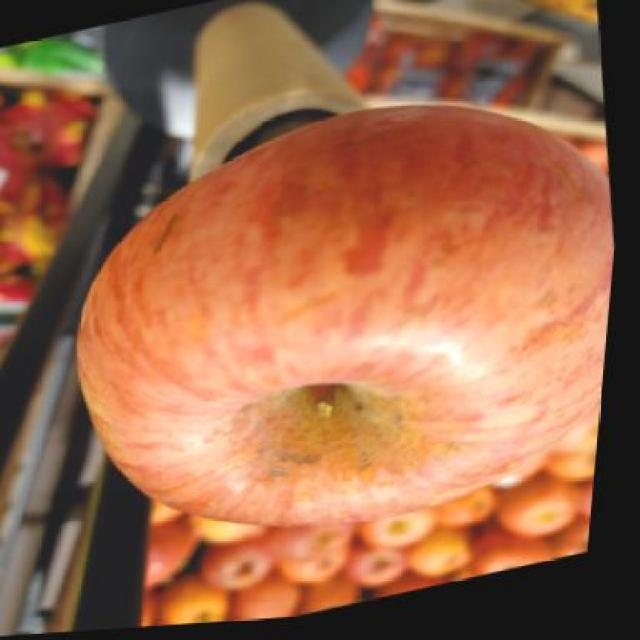Fresh Apple: (56, 99, 640, 533)
